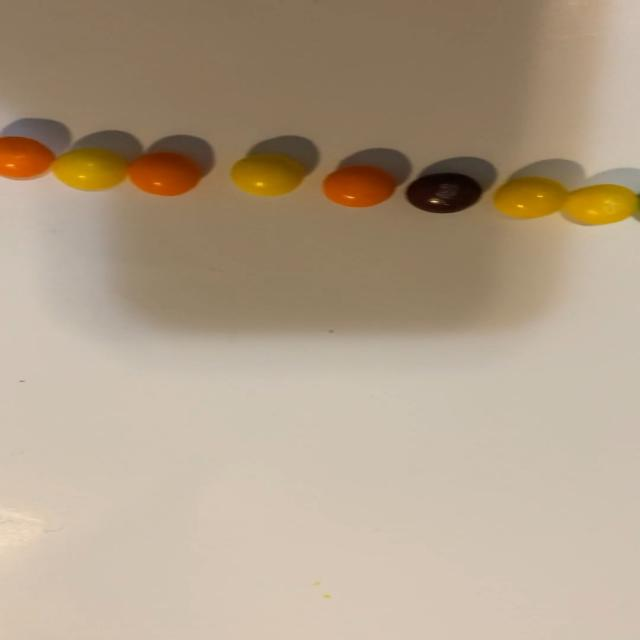smartie: (49, 147, 126, 190), (127, 151, 200, 196), (406, 172, 482, 213), (494, 176, 568, 218), (323, 165, 396, 207), (230, 154, 304, 195), (565, 184, 638, 224), (0, 136, 53, 178)
